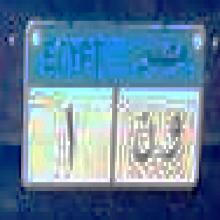1: (62, 104, 80, 168)
noon: (132, 108, 154, 169)
waw: (160, 107, 182, 171)
